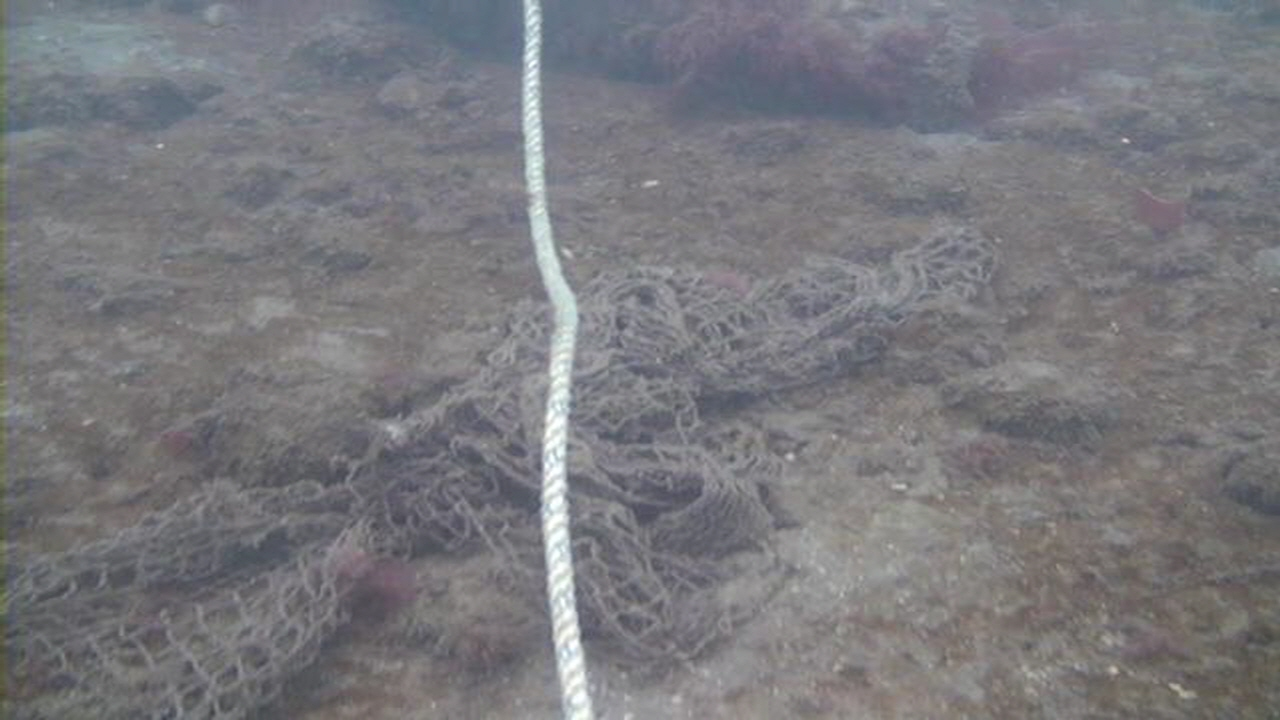fish net: (0, 222, 999, 720)
rope: (518, 0, 594, 720)
